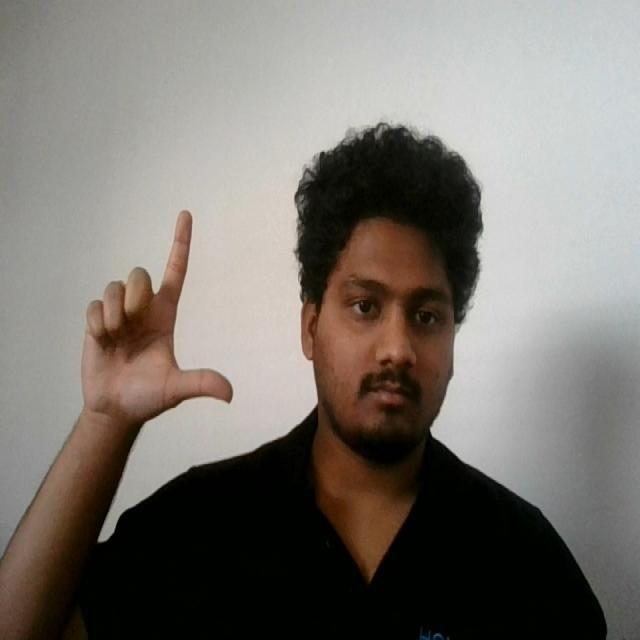IloveYou: (75, 197, 242, 433)
